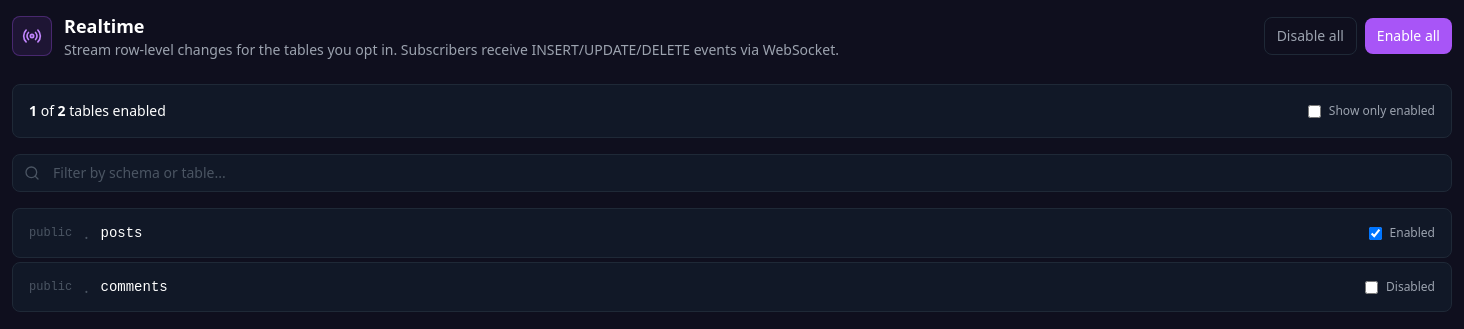
Test: RealtimePage › show-only-enabled checkbox filters disabled rows out
Expected: the element with test id "realtime-row-public-comments" is shown, x1=12 y1=262 x2=1452 y2=312
Click the checkbox with test id "realtime-filter-enabled". click: (1314, 111)
box: x1=1308 y1=104 x2=1321 y2=118
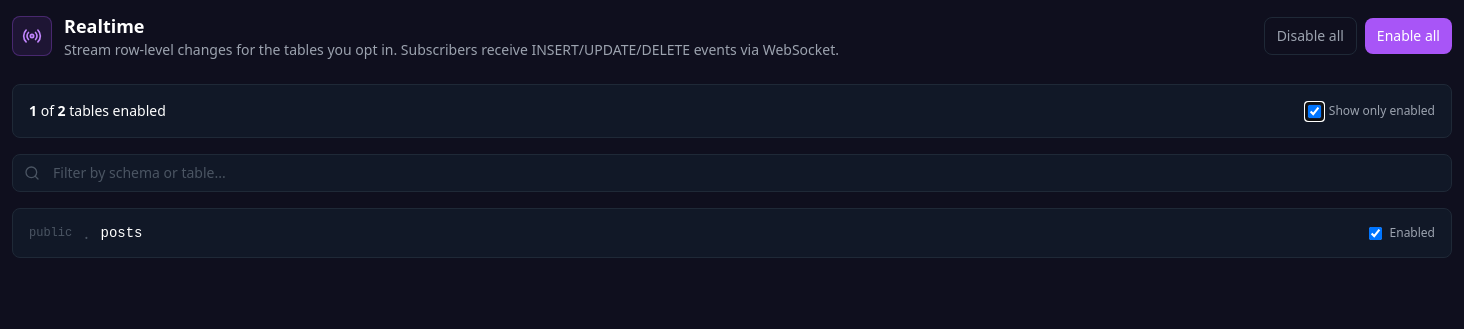
Expected: the element with test id "realtime-row-public-posts" is shown, x1=12 y1=208 x2=1452 y2=258
Expected: the element with test id "realtime-row-public-comments" is gone
